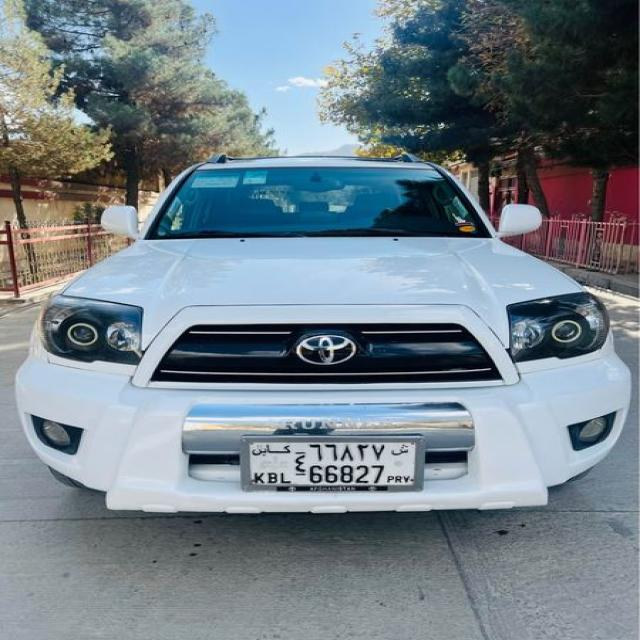Plate: (246, 440, 422, 490)
